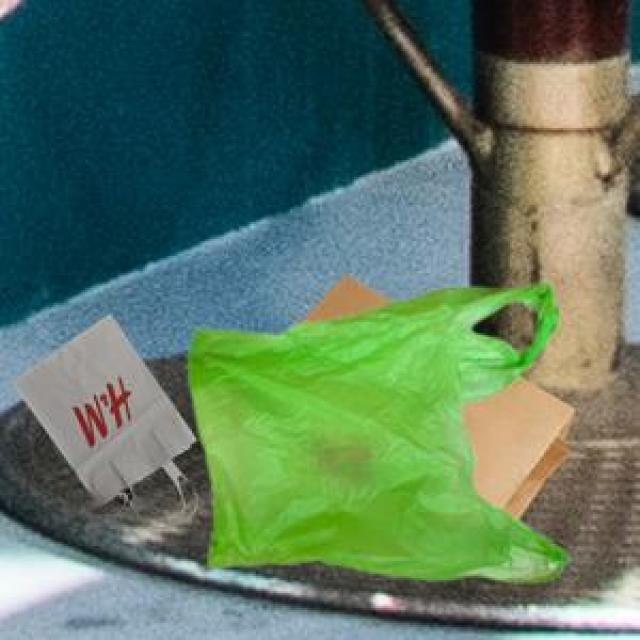paper: (297, 271, 570, 516), (9, 312, 192, 504)
